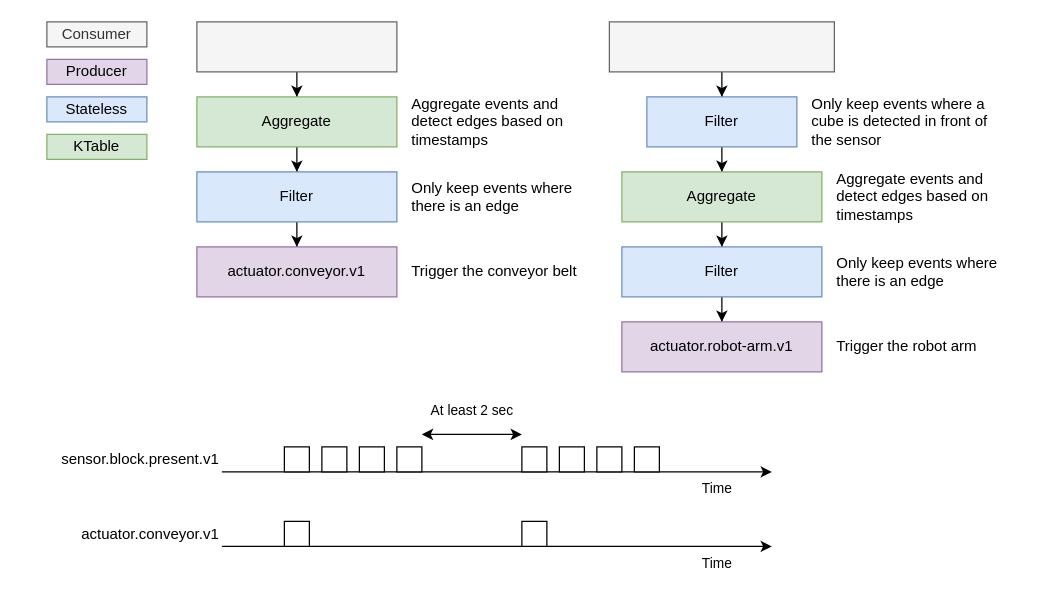
The diagram is 1043 pixels wide and 594 high, and some of its shapes have lost their labels. Here are the shapes that lost their labels. From the top down, the centre of each, then its label:
pixel 296 46: sensor.block-present.v1
pixel 721 46: sensor.distance.right.raw.v1 timestamp
